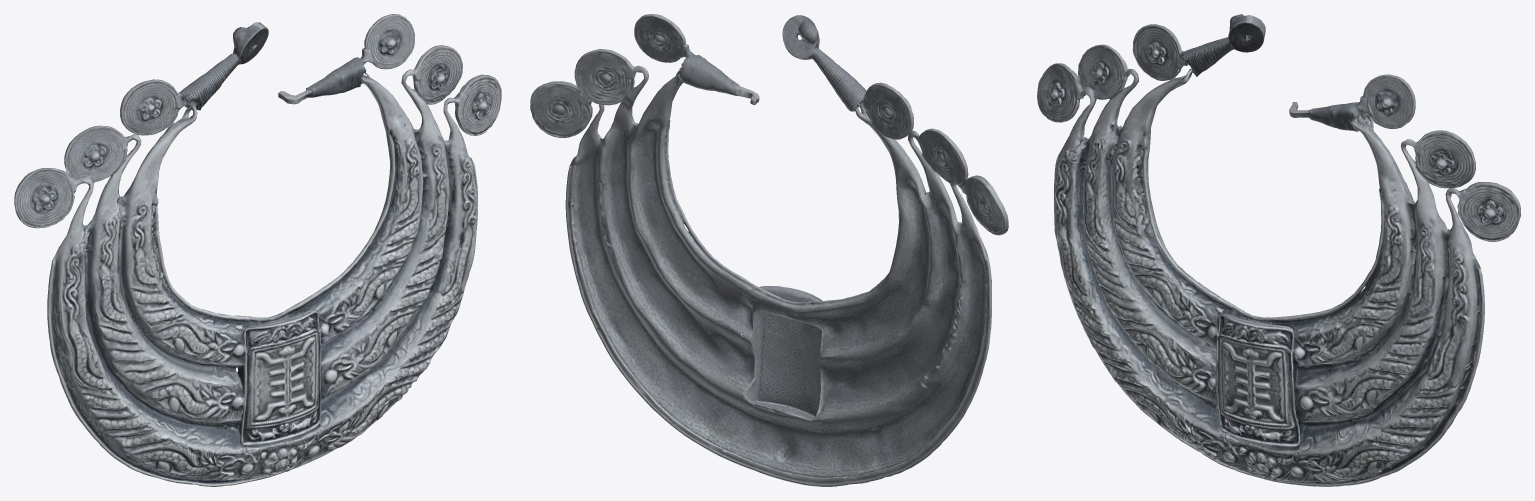
Rendered from hero-crescent.glb.
3 views of the same model, side by side, from view 1: azimuth 30°, elevation 25°; view 2: azimuth 150°, elevation 25°; view 3: azimuth 330°, elevation 25° (orthographic).
Bounding box in the file's own units: 1.9 × 1.74 × 0.2391.
1 material, 1 textured.
